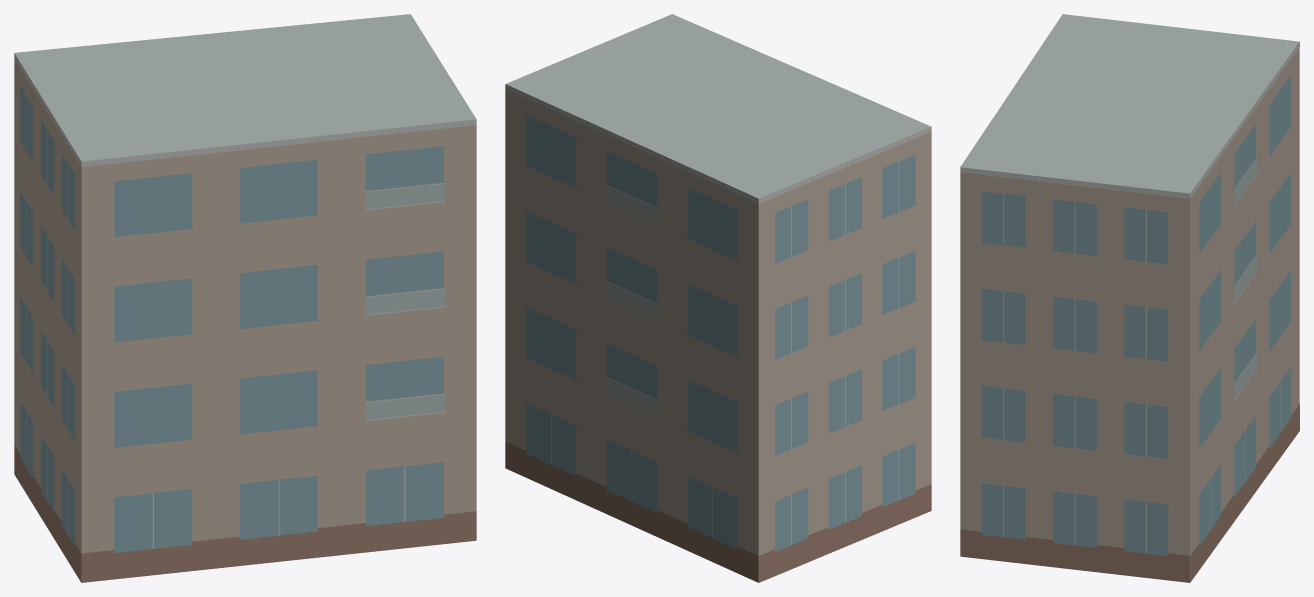
The model's file is survey-upis-32484994.glb.
3 renders of one model, left to right at view 1: azimuth 30°, elevation 25°; view 2: azimuth 150°, elevation 25°; view 3: azimuth 270°, elevation 25°, orthographic. The views are drawn at different scales.
Parts seen in each view (by area): view 1: survey-upis-32484994.tmp; view 2: survey-upis-32484994.tmp; view 3: survey-upis-32484994.tmp.
Boxes of the visible parts, <box> form: survey-upis-32484994.tmp: <box>14,14,476,582</box>; survey-upis-32484994.tmp: <box>505,14,931,582</box>; survey-upis-32484994.tmp: <box>960,14,1299,582</box>.
Size of the model in its own units: 17.86 by 18.04 by 14.27.
